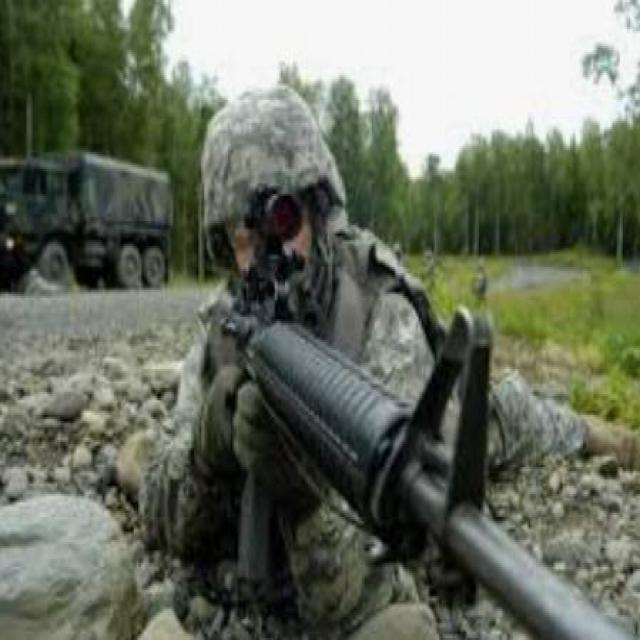m16: (189, 202, 640, 640)
